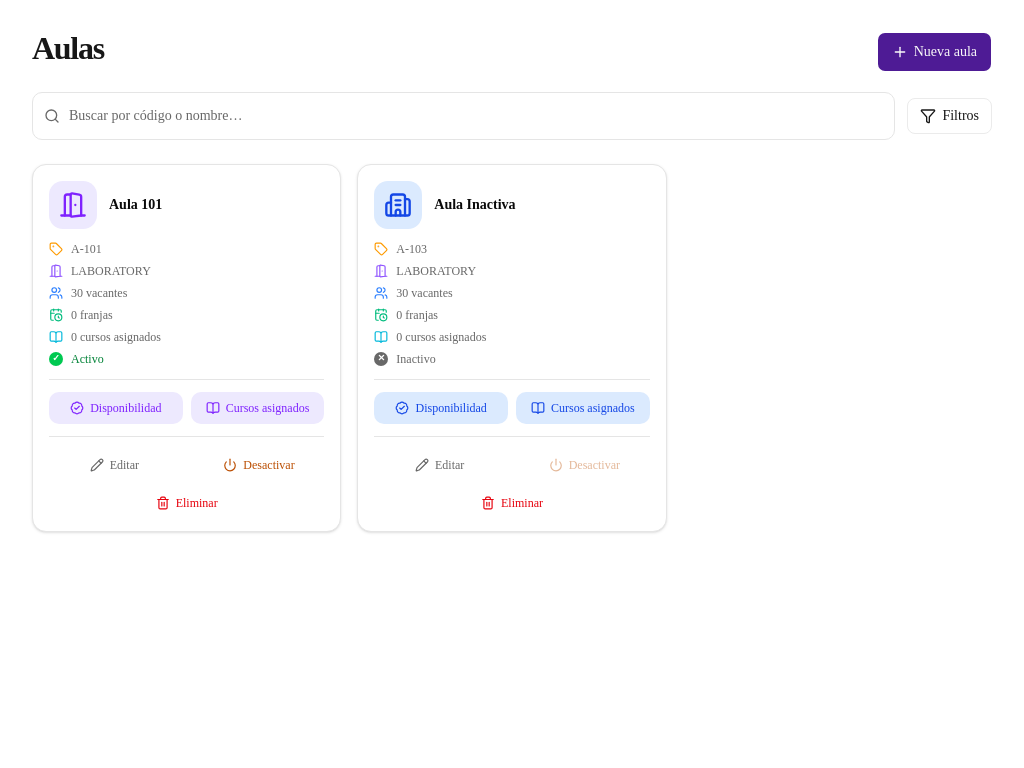
Test: ClassroomsPage (admin) › filtra por estado inactivo
Expected: the text "Aula 101" is shown, [109,195,162,215]
Expected: the text "Aula Inactiva" is shown, [434,195,516,215]
Click the button "Filtros" at (950, 116), box [907,98,992,134]
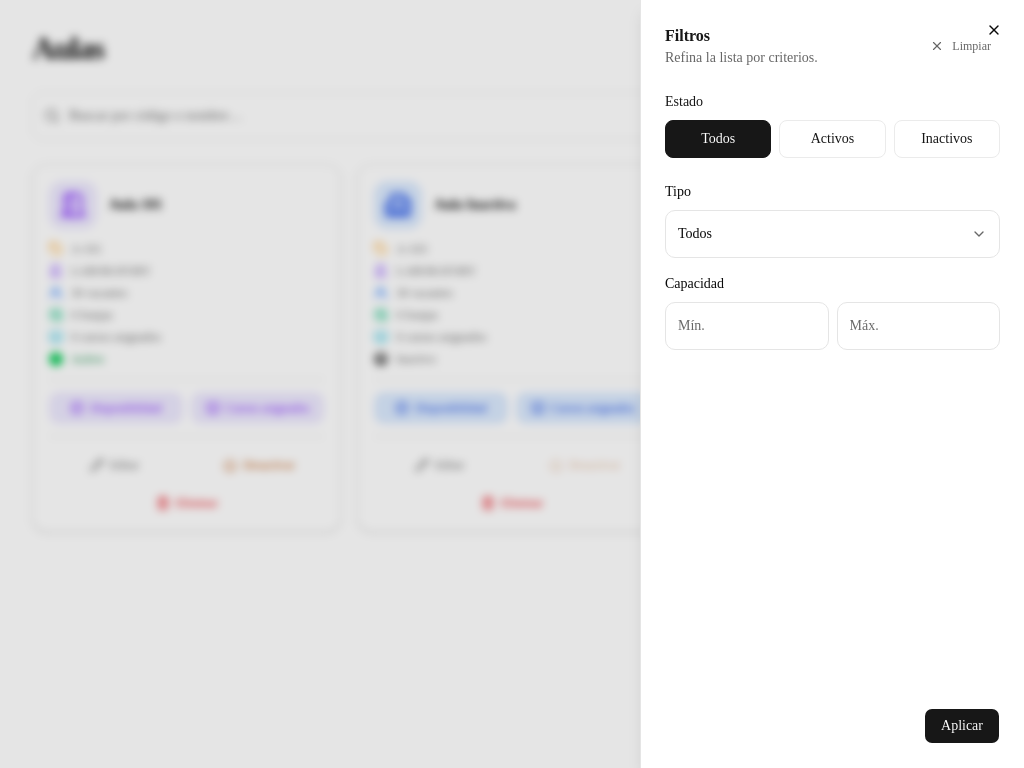
Click the button "Inactivos" at (947, 139), box [894,120,1000,158]
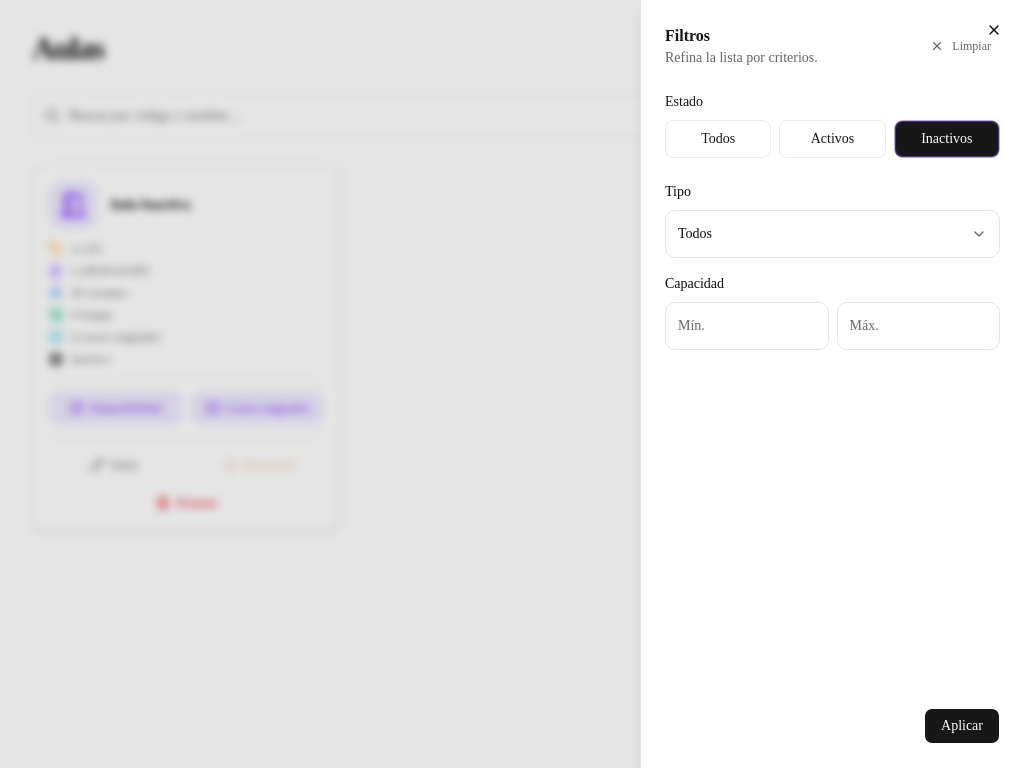
Expected: the text "Aula Inactiva" is shown, [109,195,190,215]
Now the text "Aula 101" is gone
